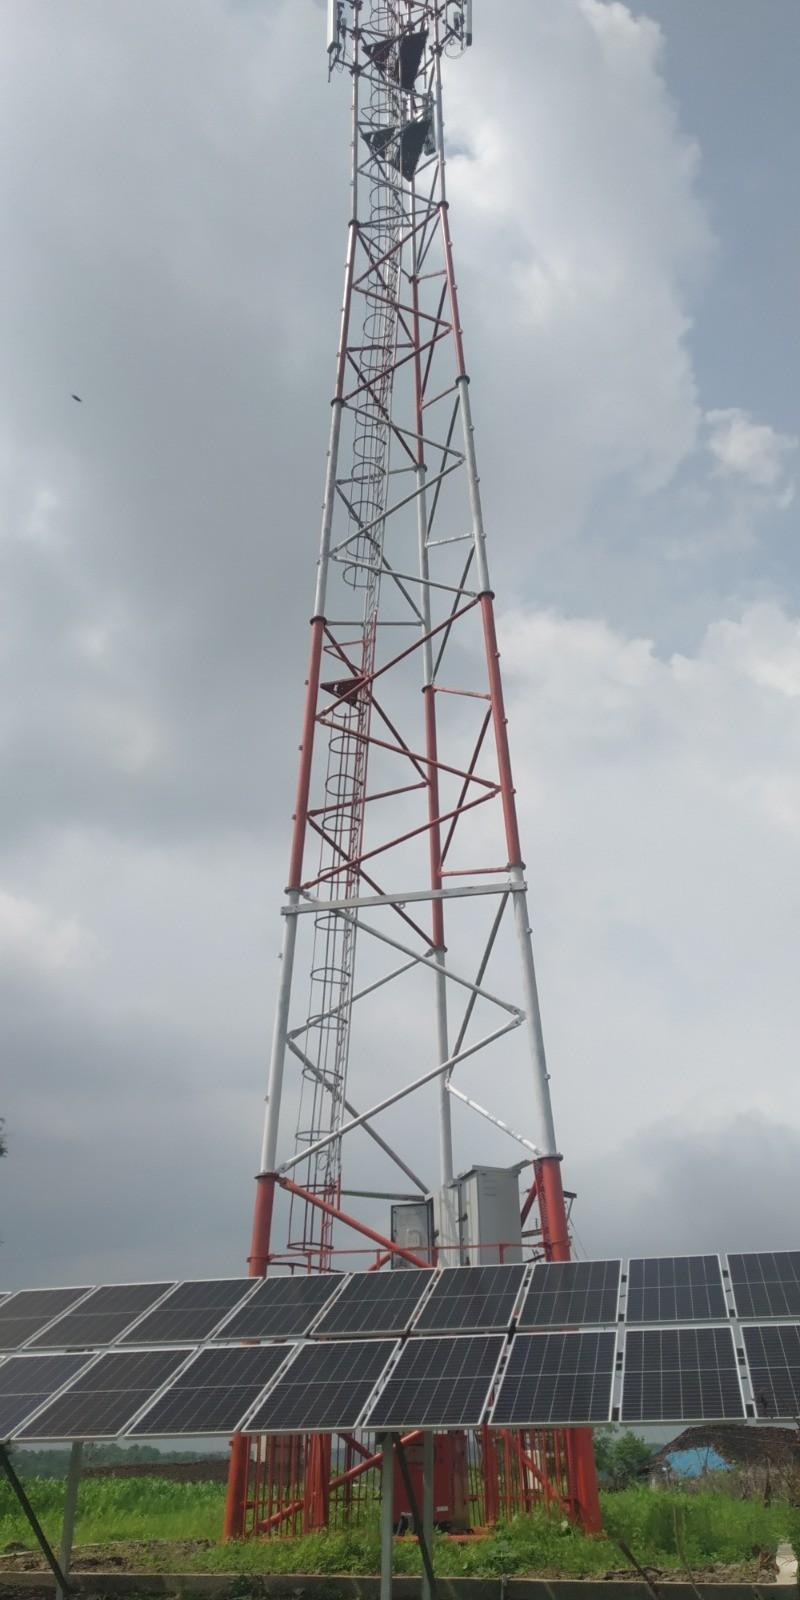GSM Antenna: (449, 2, 485, 57), (319, 0, 348, 63)
